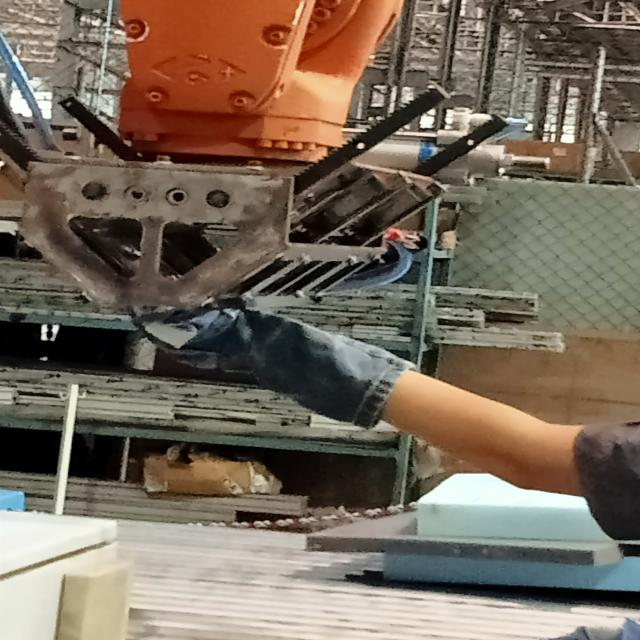Gloves-Detection: (127, 306, 410, 427)
